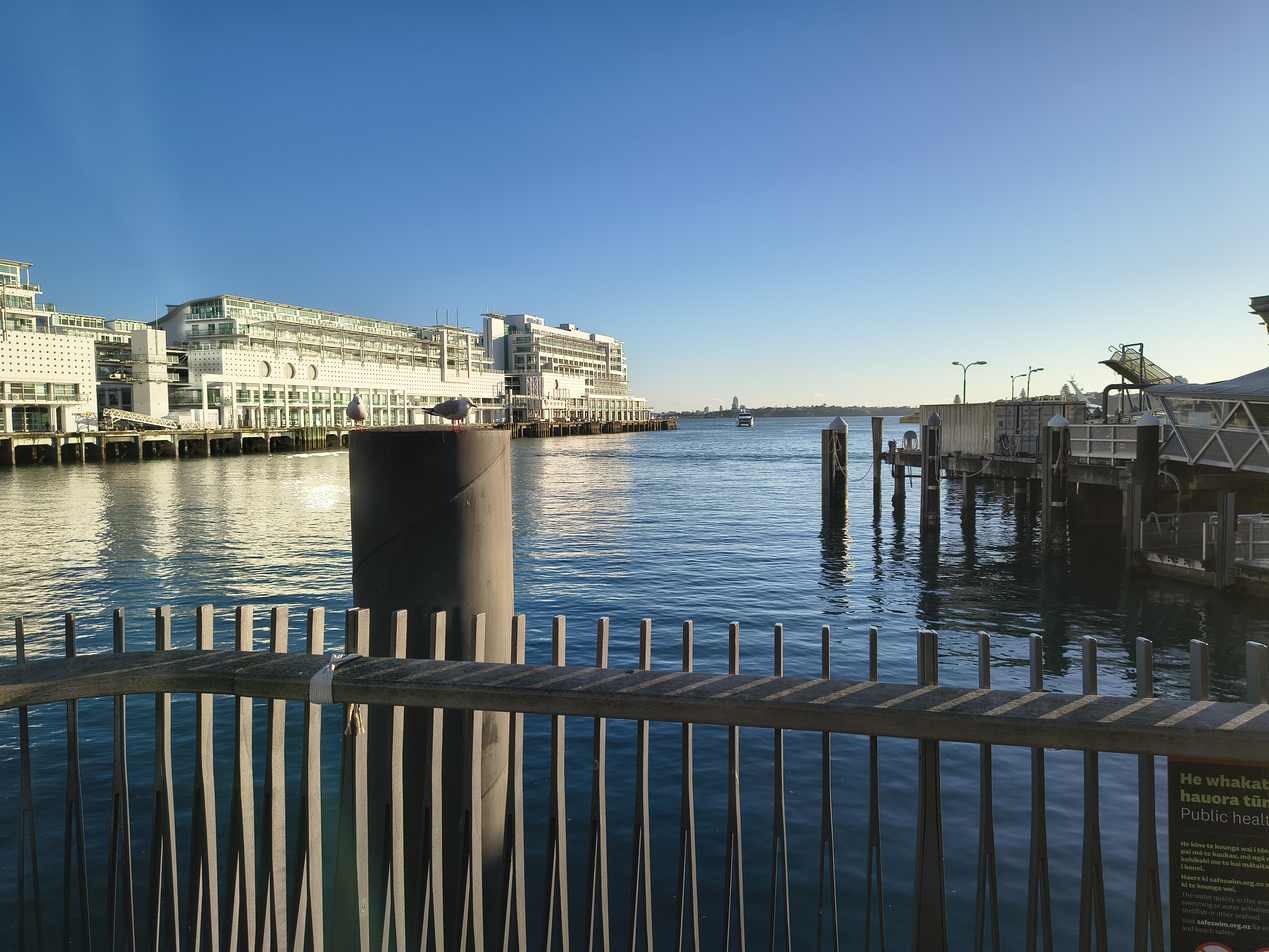ferry: (736, 409, 754, 427)
